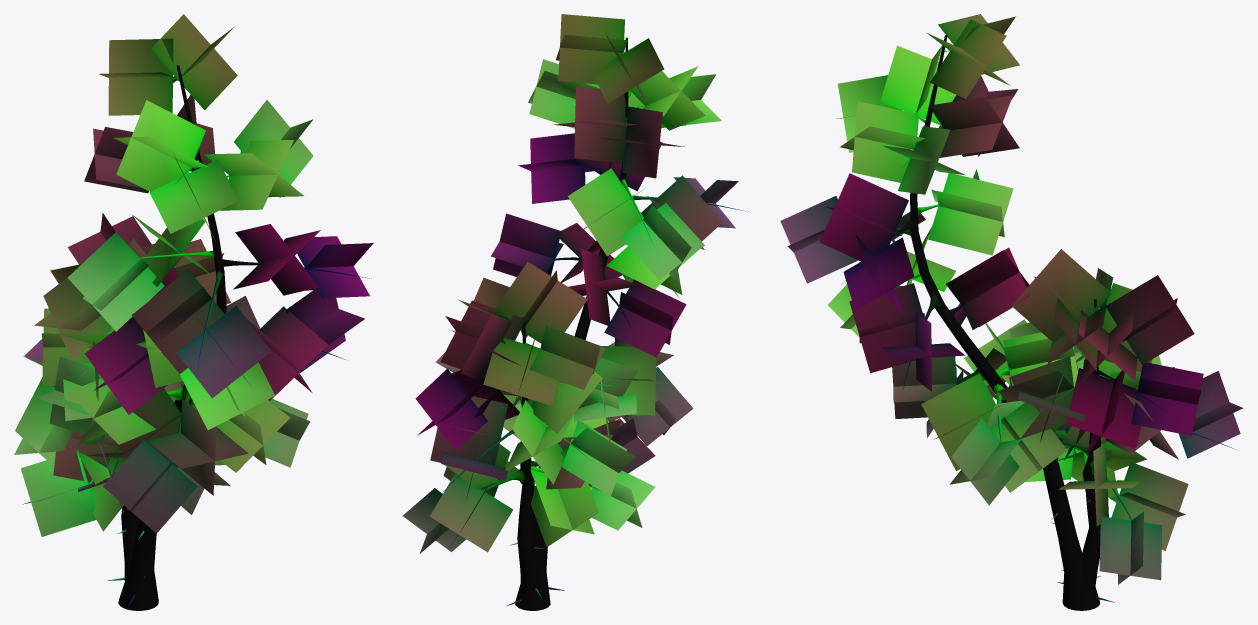
The model's file is M_P7_Tree_9.fbx.
3 renders of one model, left to right at view 1: azimuth 30°, elevation 25°; view 2: azimuth 150°, elevation 25°; view 3: azimuth 270°, elevation 25°, orthographic. The views are drawn at different scales.
Parts seen in each view (by area): view 1: Tree_9; view 2: Tree_9; view 3: Tree_9.
Boxes of the visible parts, bbox=[...] form: Tree_9: bbox=[14, 14, 373, 610]; Tree_9: bbox=[403, 14, 748, 610]; Tree_9: bbox=[780, 14, 1243, 610].
Bounding box in the file's own units: 240 × 559 × 413.
